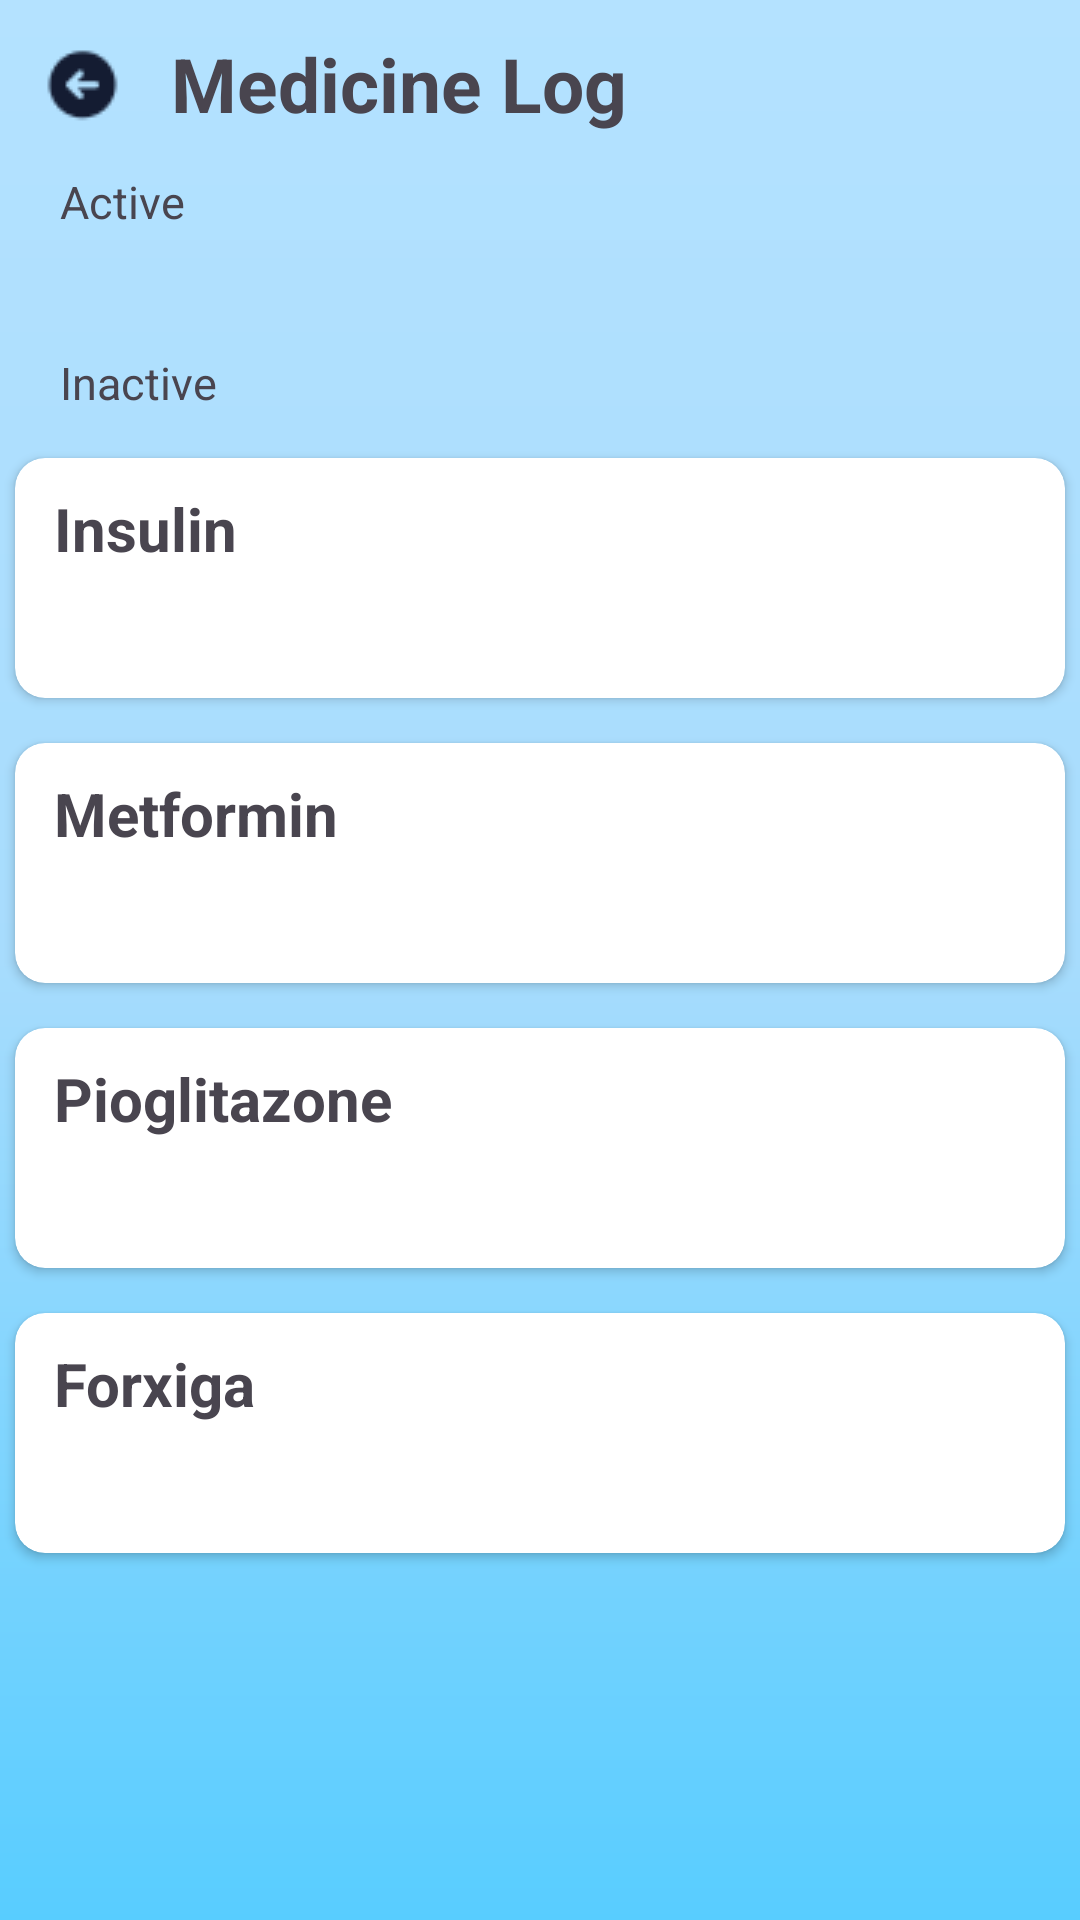

Named icons in this screenshot (1080x1920) and their bounding boxes, (x1, y1, x2, y2):
back: (47, 50, 118, 120)
